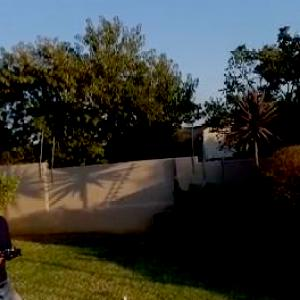follow: (1, 173, 32, 299)
